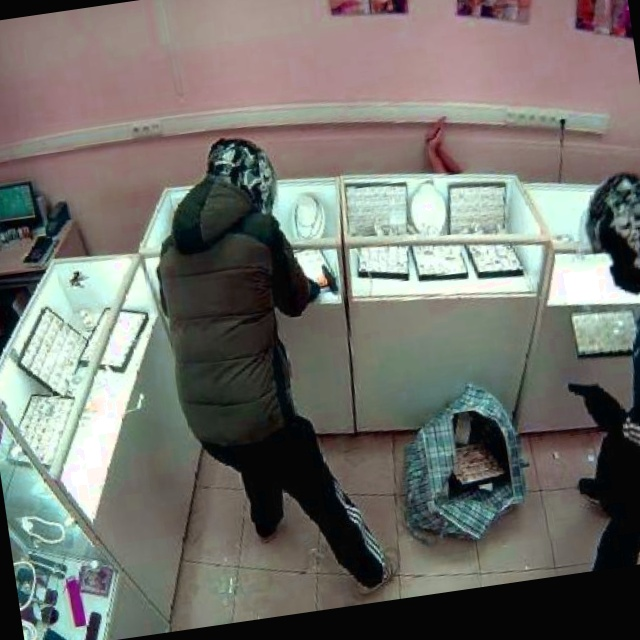gun: (560, 373, 623, 434)
